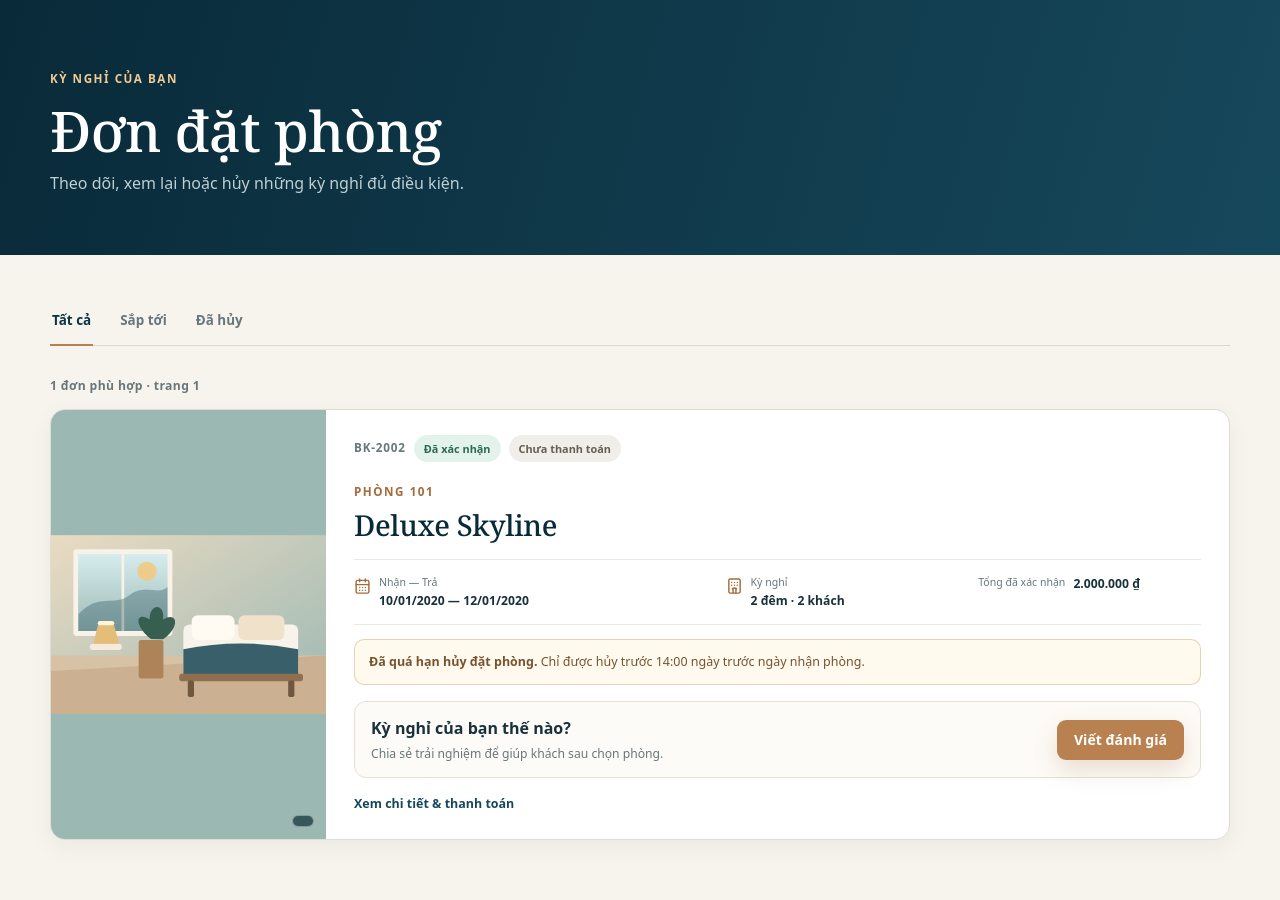
Test case: MyBookingsPage reviews › validates, then sends a new review for a finished stay and shows it on the card
This screenshot has width=1280, height=900.
Click the button "Viết đánh giá".
click(1120, 740)  # box [1057, 720, 1184, 760]
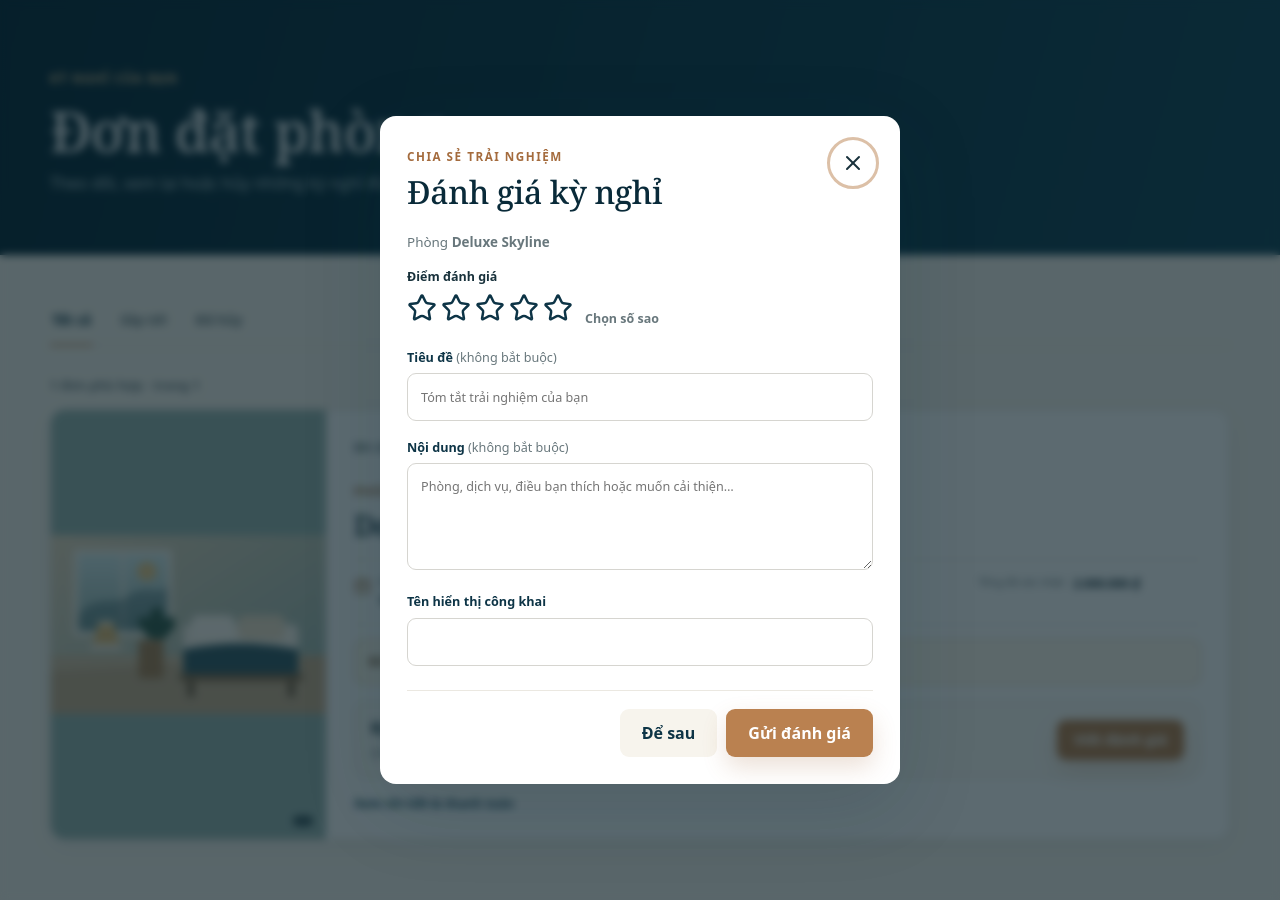
Click the button "Gửi đánh giá".
click(800, 733)  # box [726, 709, 873, 757]
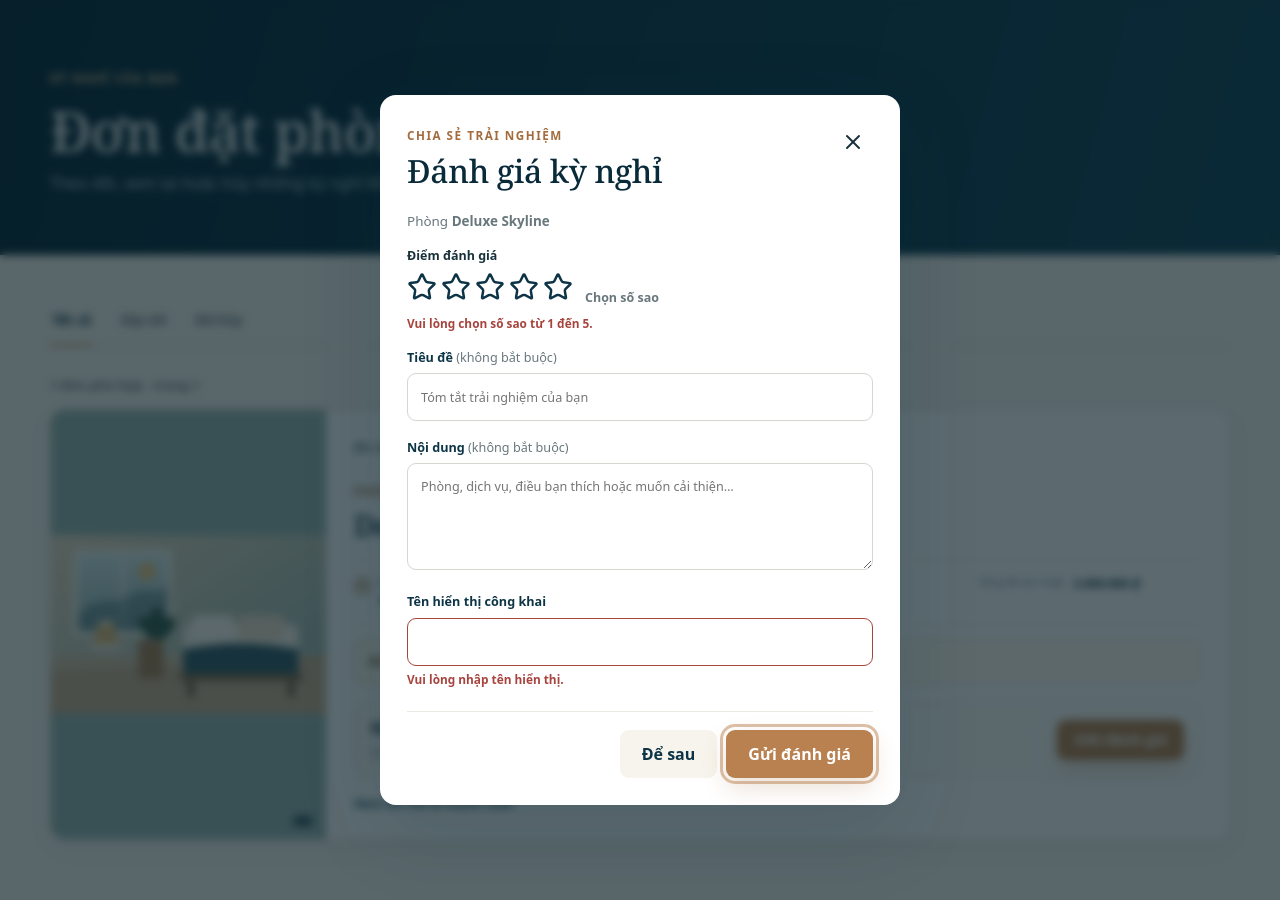
expect the text "Vui lòng chọn số sao từ 1 đến 5." is shown: met, box [407, 315, 593, 331]
expect the text "Vui lòng nhập tên hiển thị." is shown: met, box [407, 671, 564, 687]
Click the radio button named "5 sao".
click(558, 287)  # box [543, 272, 573, 302]
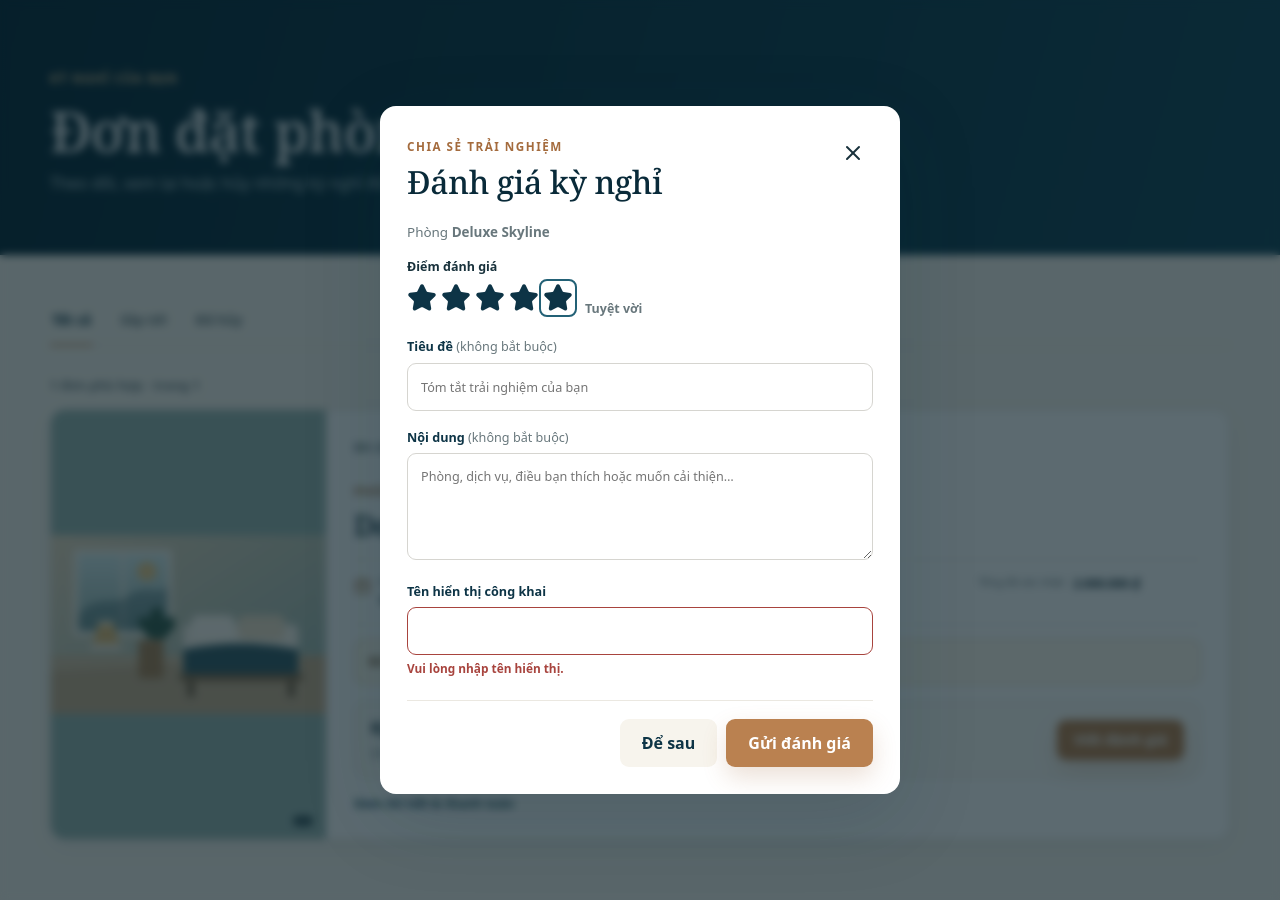
Type "  Rất tuyệt " into the text box labelled "Nội dung (không bắt buộc)".
click(640, 506); type("  Rất tuyệt ")  # box [407, 453, 873, 560]
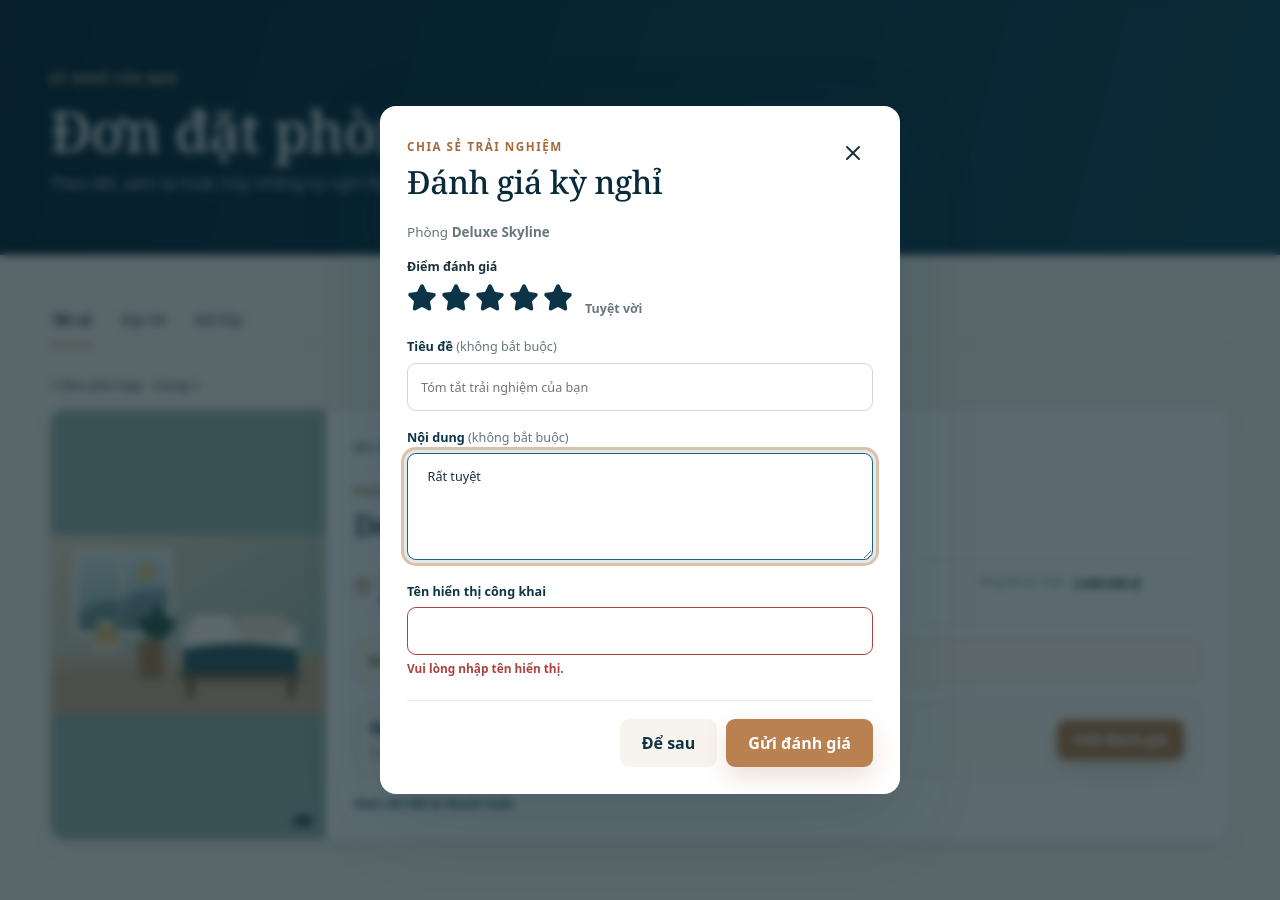
Type "An" into the field labelled "Tên hiển thị công khai Vui lòng nhập tên hiển thị.".
click(640, 631); type("An")  # box [407, 607, 873, 655]
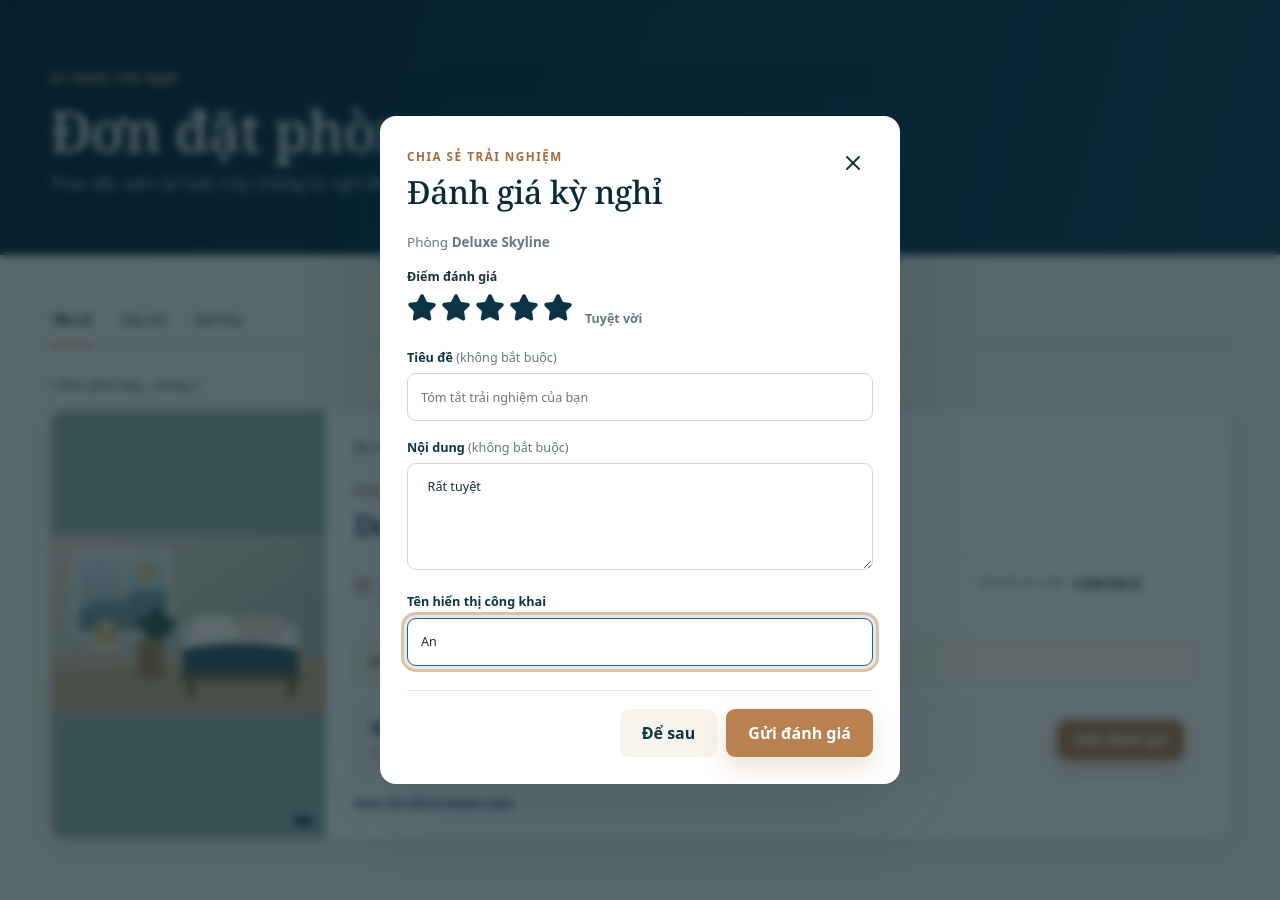
Double-click the button "Gửi đánh giá".
double_click(800, 733)  # box [726, 709, 873, 757]
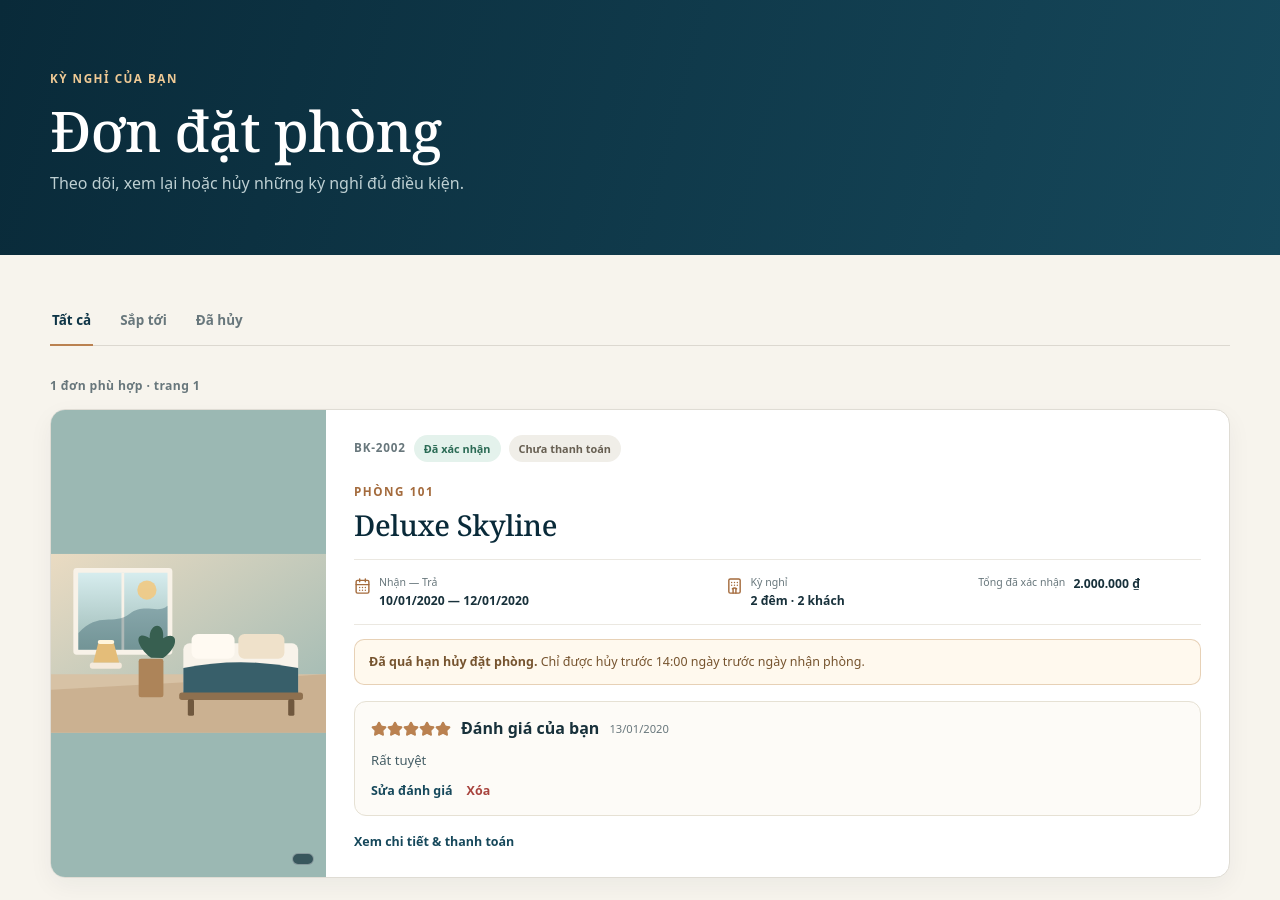
expect the button "Sửa đánh giá" is shown: met, box [371, 781, 453, 801]
expect the dialog is gone: met
